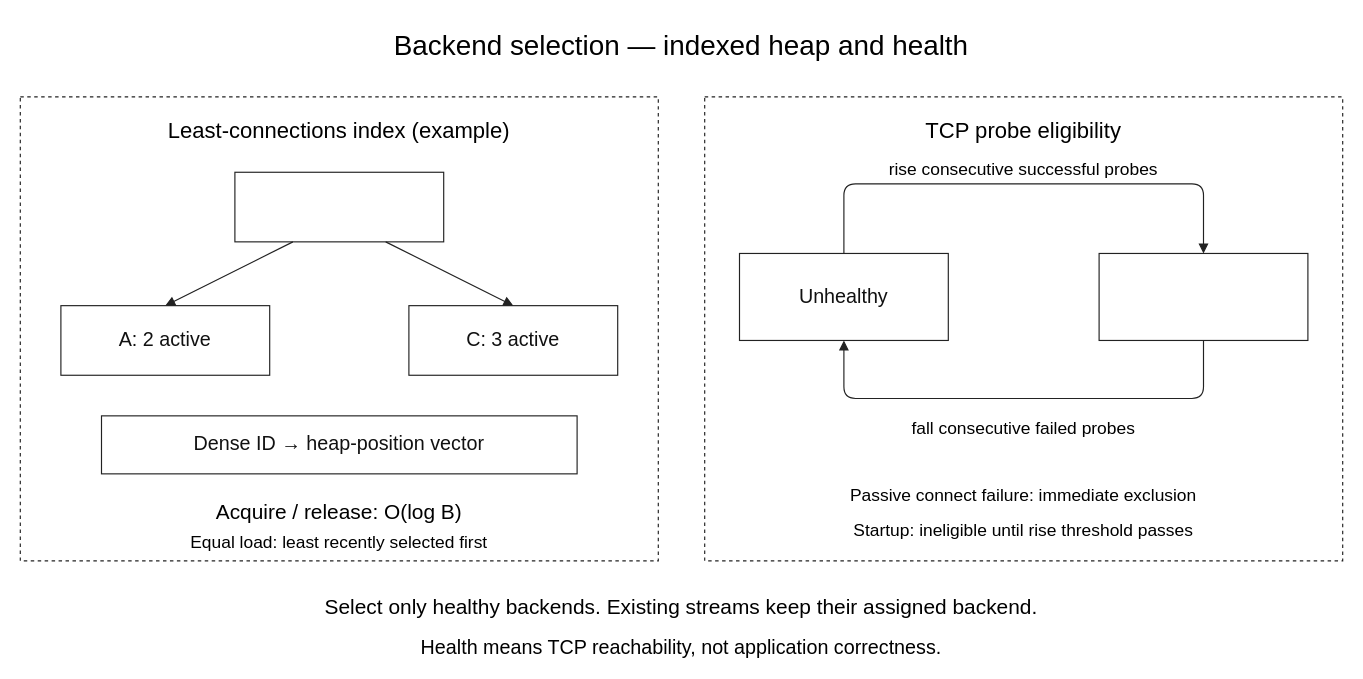
Some shapes in this 1363 by 679 pixel diagram are drawn without their labels. The shapes that lost their labels are listed below. From the top down, each one's centre as x and y in pixels, then its label:
At pixel 339 206: "B: 1 active".
At pixel 1203 296: "Healthy".
